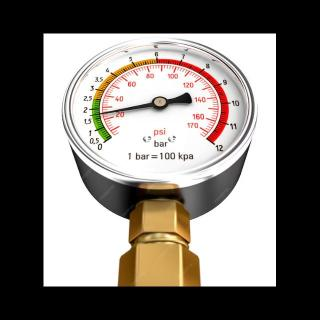gauge: (44, 33, 276, 195), (197, 128, 225, 156), (98, 128, 120, 148), (152, 96, 168, 110), (88, 114, 95, 118)
